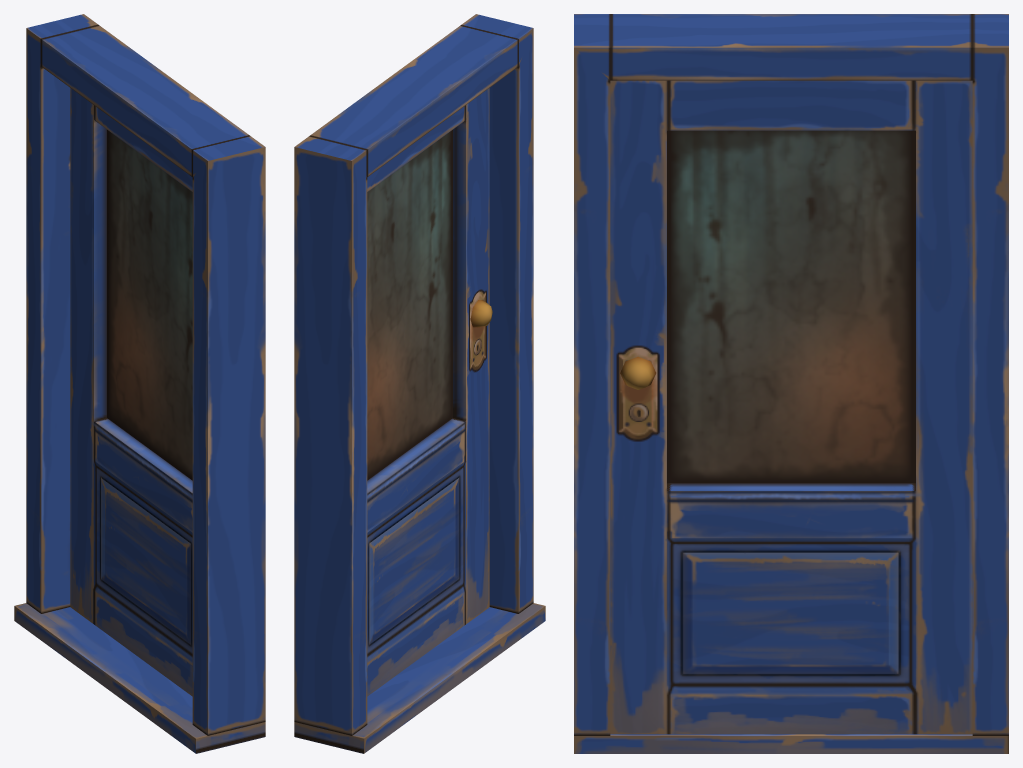
The model's file is storeFront01_door.FBX.
The picture shows the model from 3 angles, left to right: view 1: azimuth 30°, elevation 25°; view 2: azimuth 150°, elevation 25°; view 3: azimuth 270°, elevation 25°; orthographic projection. The views are drawn at different scales.
Visible parts, largest first — view 1: storeFront01_door_frame, storeFront01_door, storeFront01_door_glass; view 2: storeFront01_door_frame, storeFront01_door, storeFront01_door_glass; view 3: storeFront01_door, storeFront01_door_glass, storeFront01_door_frame.
Boxes of the visible parts, bbox=[...] form: storeFront01_door_frame: bbox=[14, 14, 265, 753]; storeFront01_door: bbox=[70, 88, 192, 696]; storeFront01_door_glass: bbox=[107, 130, 192, 480]; storeFront01_door_frame: bbox=[294, 14, 545, 753]; storeFront01_door: bbox=[367, 88, 492, 696]; storeFront01_door_glass: bbox=[367, 130, 452, 480]; storeFront01_door: bbox=[610, 80, 972, 734]; storeFront01_door_glass: bbox=[667, 130, 915, 483]; storeFront01_door_frame: bbox=[574, 14, 1008, 753].
Size of the model in its own units: 30.5 by 215 by 120.
